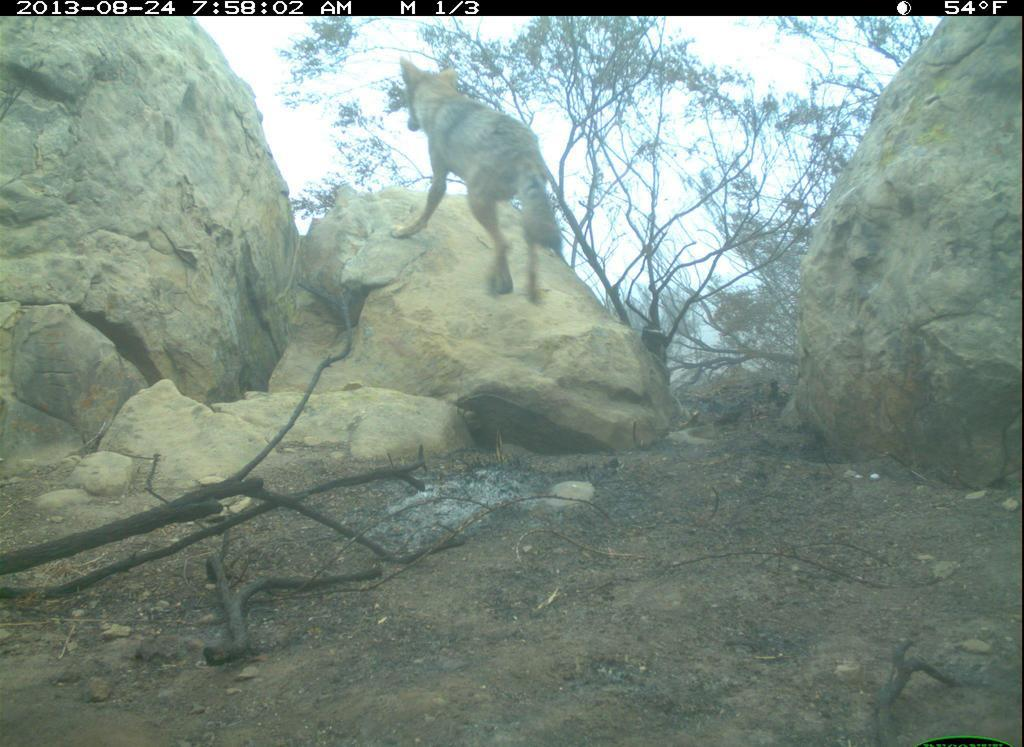coyote: (388, 50, 569, 309)
